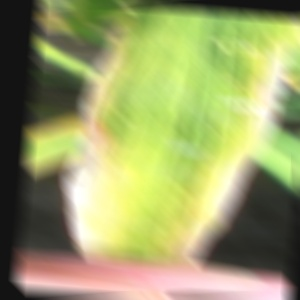Leaf_Blast: (77, 32, 259, 265)
